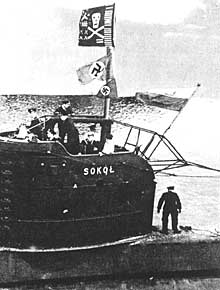Jolly Roger Flag: (76, 2, 120, 50)
